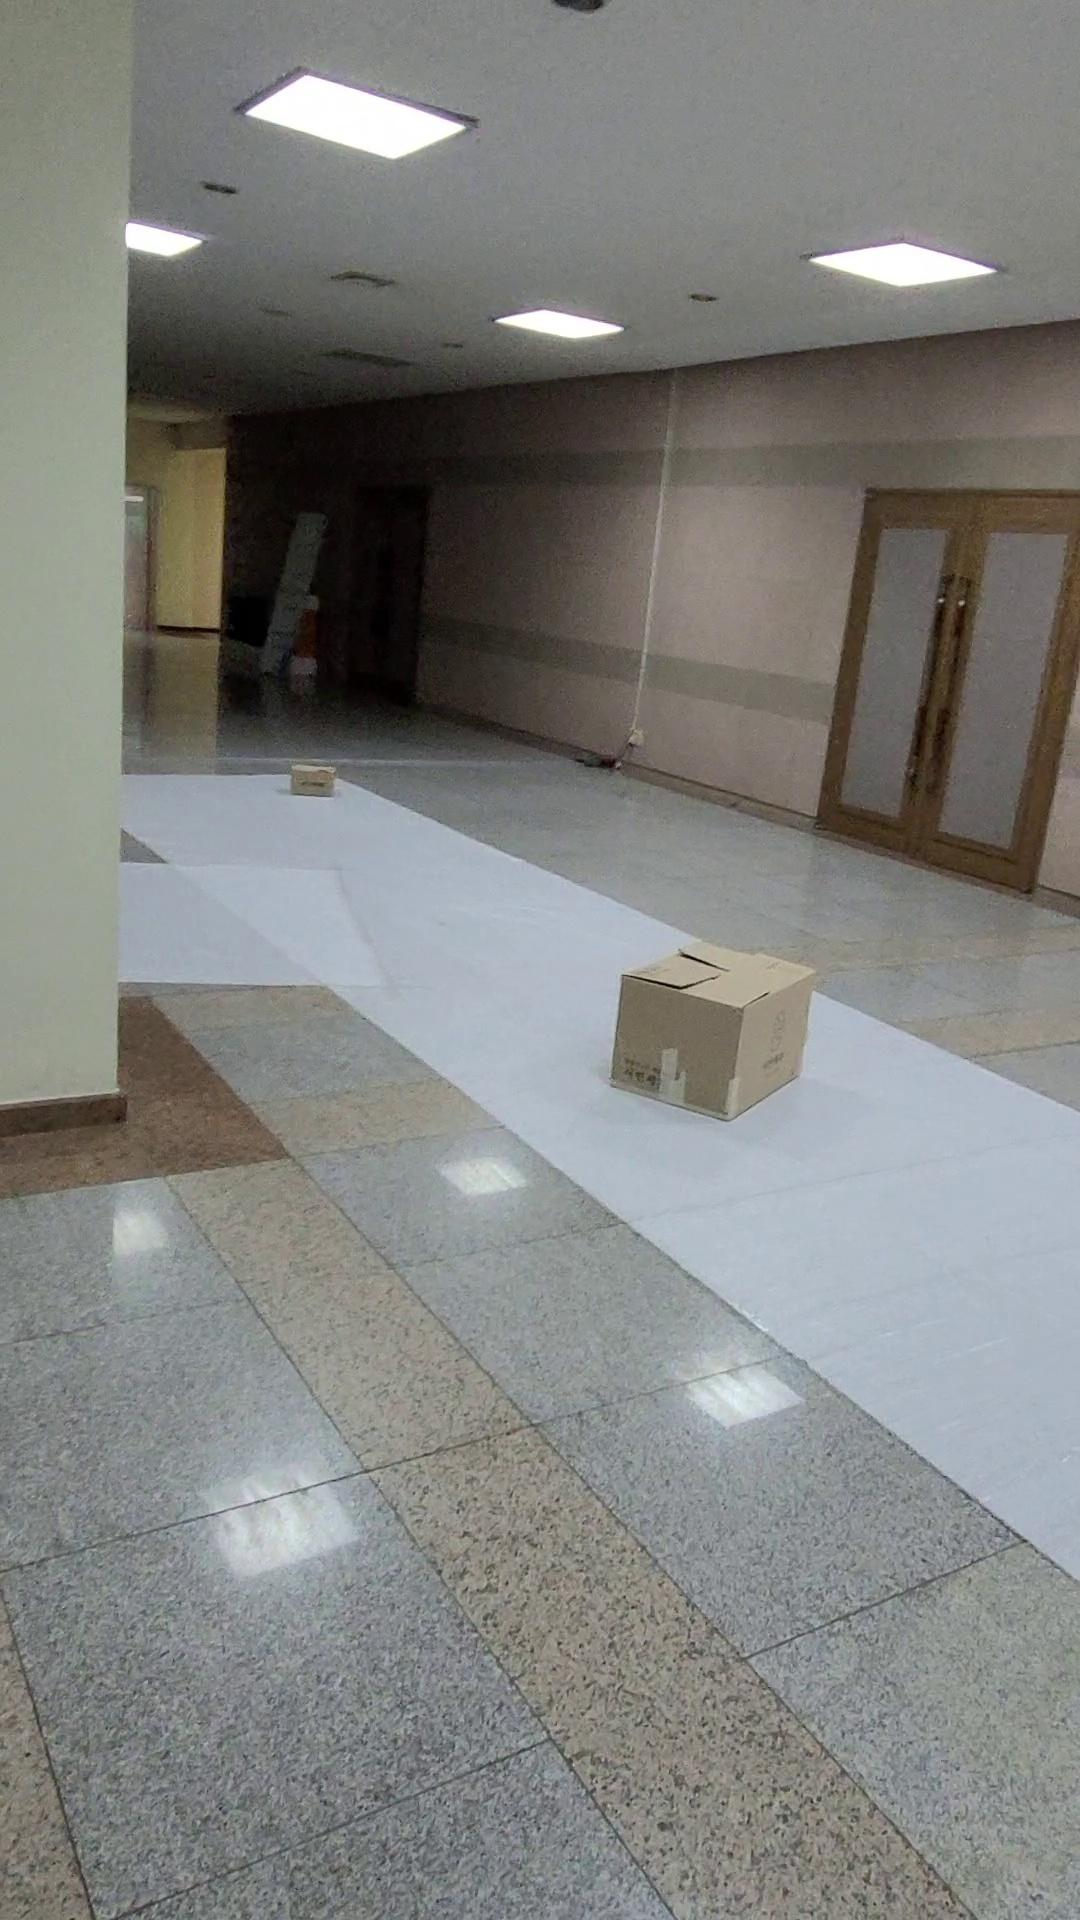Box: (568, 903, 855, 1155), (248, 745, 382, 835)
